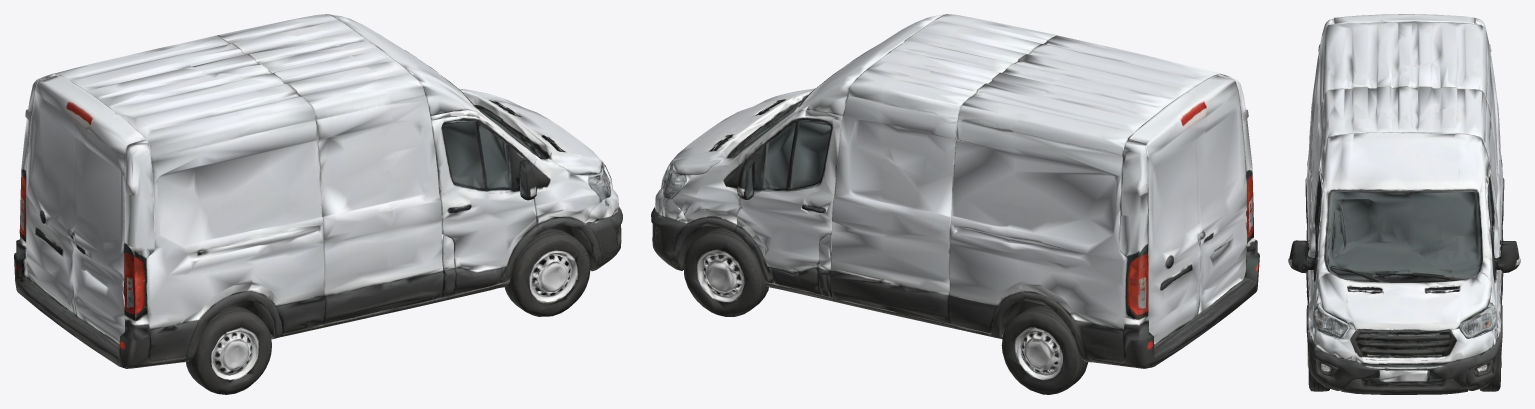
The model's file is veh_van.glb.
3 renders of one model, left to right at view 1: azimuth 30°, elevation 25°; view 2: azimuth 150°, elevation 25°; view 3: azimuth 270°, elevation 25°, orthographic. The views are drawn at different scales.
Parts seen in each view (by area): view 1: tripo_node_c4c61543-17a5-4f48-b9bb-7f4a15ec95af; view 2: tripo_node_c4c61543-17a5-4f48-b9bb-7f4a15ec95af; view 3: tripo_node_c4c61543-17a5-4f48-b9bb-7f4a15ec95af.
Part boxes in pixels (box(x1,y1,x2,y2)): tripo_node_c4c61543-17a5-4f48-b9bb-7f4a15ec95af: box(14, 14, 622, 394); tripo_node_c4c61543-17a5-4f48-b9bb-7f4a15ec95af: box(651, 14, 1259, 394); tripo_node_c4c61543-17a5-4f48-b9bb-7f4a15ec95af: box(1288, 14, 1520, 394).
Bounding box in the file's own units: 0.9999 × 0.4862 × 0.4766.
Materials: 1 (1 with a texture image).
